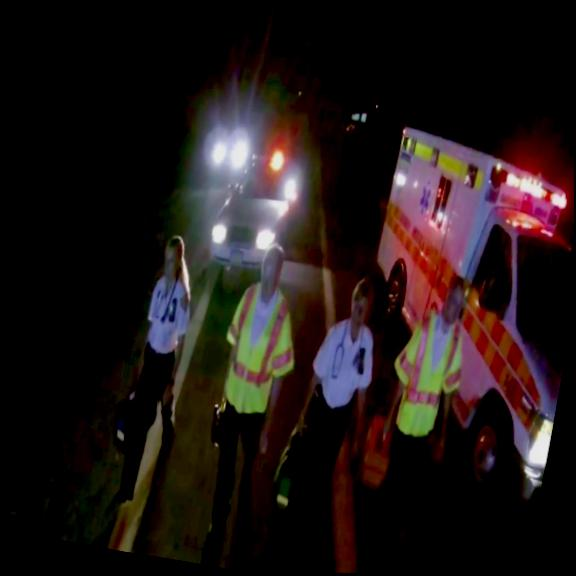safety_vest: (209, 278, 307, 419), (383, 310, 469, 442)
